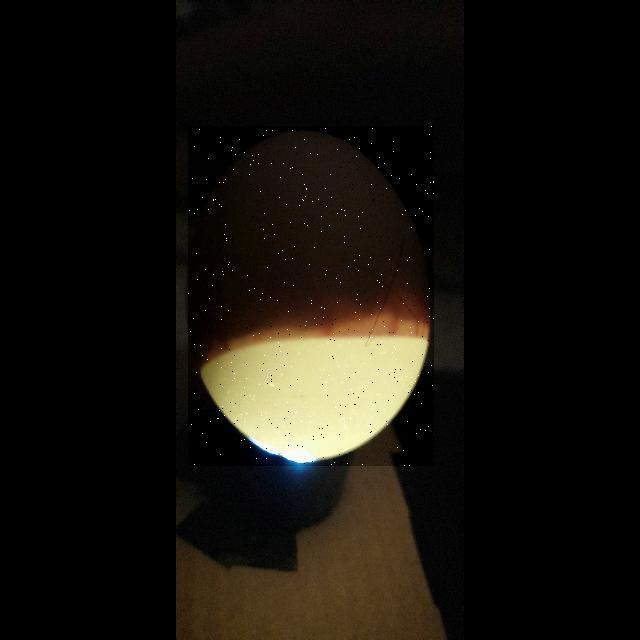Fertile: (188, 126, 434, 466)
